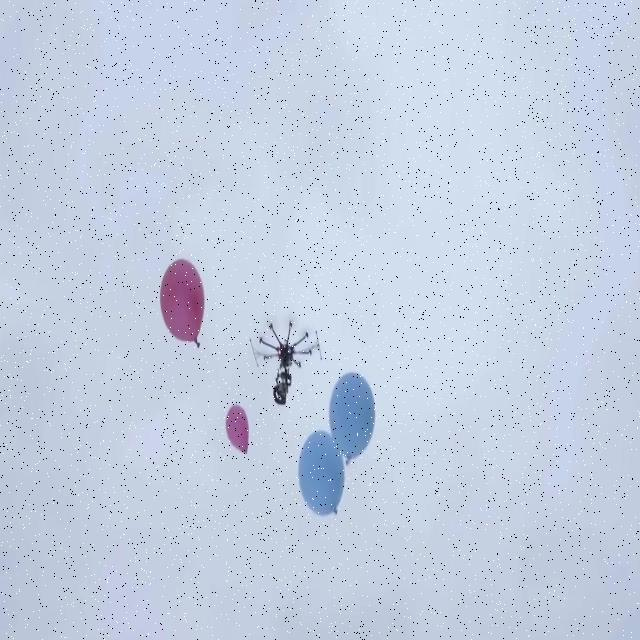UAV: (259, 321, 323, 372)
